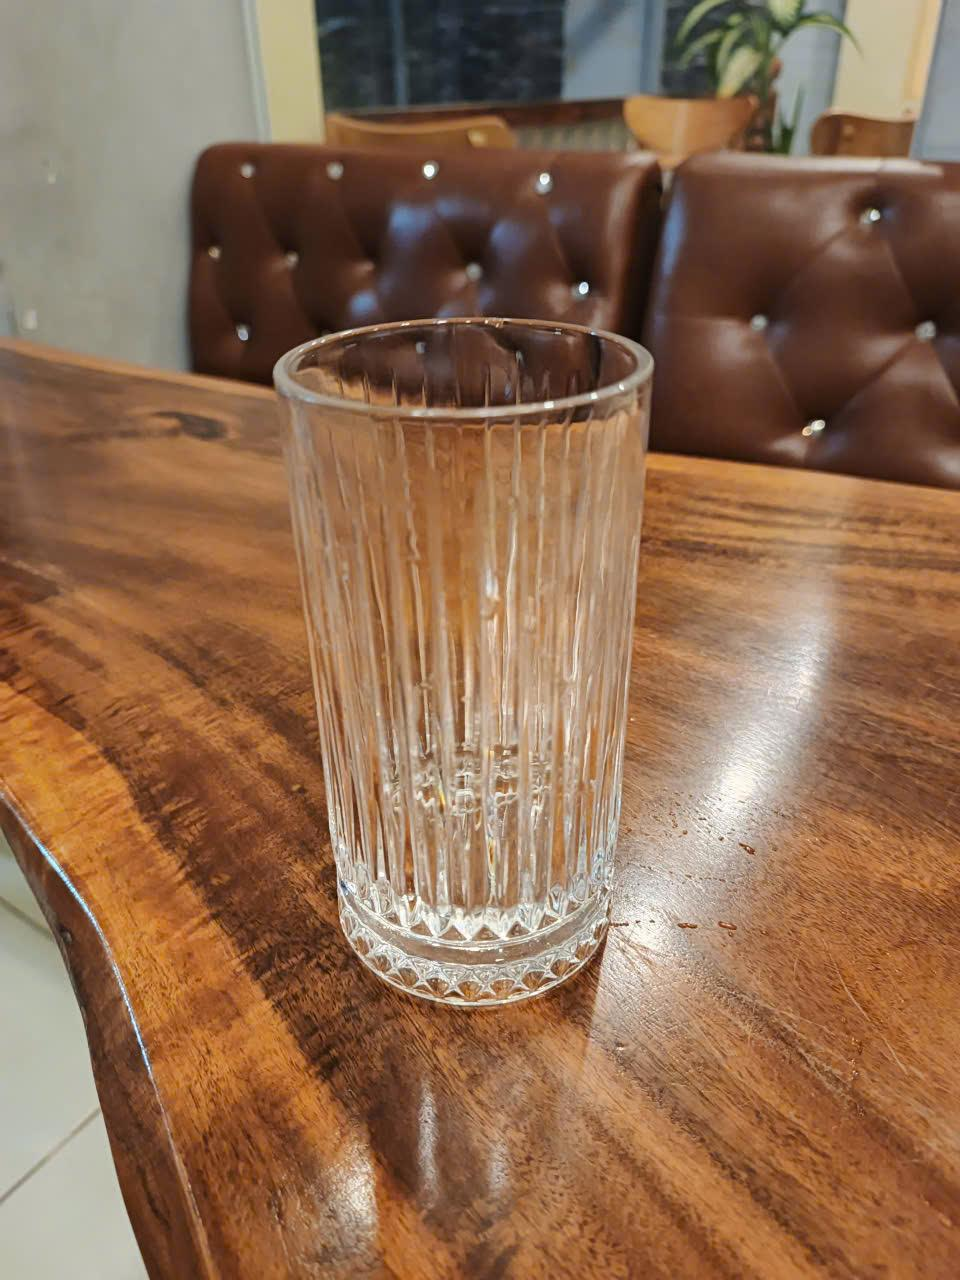Vo co: (272, 310, 656, 1005)
